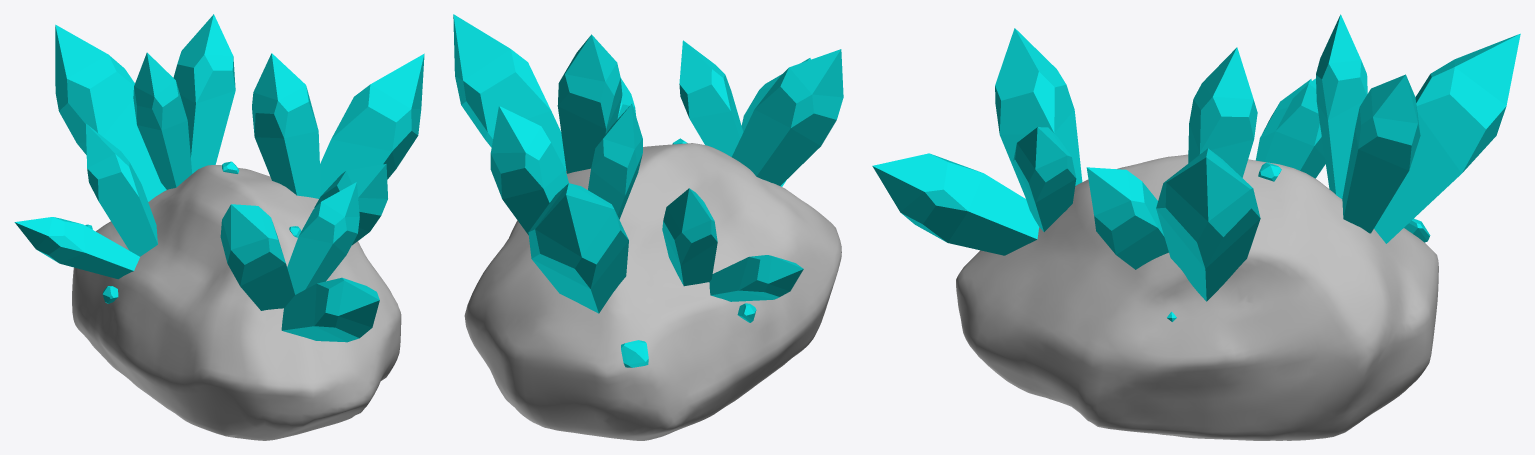
File: Low_crystal.fbx
The picture shows the model from 3 angles, left to right: view 1: azimuth 30°, elevation 25°; view 2: azimuth 150°, elevation 25°; view 3: azimuth 270°, elevation 25°; orthographic projection. The views are drawn at different scales.
Visible parts, largest first — view 1: pCube113, pCube96, pCube93, pCube102, pCube100, pCube103, pCube98, pCube111, pCube95, pCube104, pCube101, pCube90; view 2: pCube113, pCube96, pCube103, pCube93, pCube102, pCube100, pCube104, pCube111, pCube98, pCube101, pCube109, pCube95; view 3: pCube113, pCube96, pCube95, pCube93, pCube100, pCube103, pCube102, pCube98, pCube90, pCube104, pCube111, pCube101.
Part boxes in pixels (x1,y1,x2,y2): pCube113: (72, 165, 401, 440); pCube96: (55, 24, 166, 201); pCube93: (320, 53, 424, 195); pCube102: (252, 53, 321, 198); pCube100: (173, 14, 235, 173); pCube103: (220, 204, 294, 310); pCube98: (133, 52, 192, 189); pCube111: (86, 124, 157, 256); pCube95: (281, 277, 379, 342); pCube104: (287, 182, 359, 294); pCube101: (14, 217, 139, 279); pCube90: (314, 164, 387, 245); pCube113: (464, 143, 841, 440); pCube96: (528, 183, 628, 313); pCube103: (732, 49, 843, 185); pCube93: (453, 14, 566, 170); pCube102: (557, 34, 622, 173); pCube100: (490, 106, 568, 234); pCube104: (679, 40, 743, 156); pCube111: (662, 188, 717, 286); pCube98: (588, 104, 642, 219); pCube101: (709, 255, 803, 301); pCube109: (621, 340, 648, 367); pCube95: (741, 58, 810, 186); pCube113: (956, 154, 1438, 440); pCube96: (1374, 33, 1520, 243); pCube95: (872, 153, 1039, 255); pCube93: (1156, 148, 1260, 301); pCube100: (1342, 74, 1420, 233); pCube103: (995, 28, 1082, 194); pCube102: (1188, 47, 1257, 177); pCube98: (1316, 14, 1367, 198); pCube90: (1086, 167, 1168, 269); pCube104: (1013, 127, 1076, 231); pCube111: (1264, 78, 1325, 178); pCube101: (1255, 79, 1311, 161).
Size of the model in its own units: 2.31 by 1.98 by 3.
